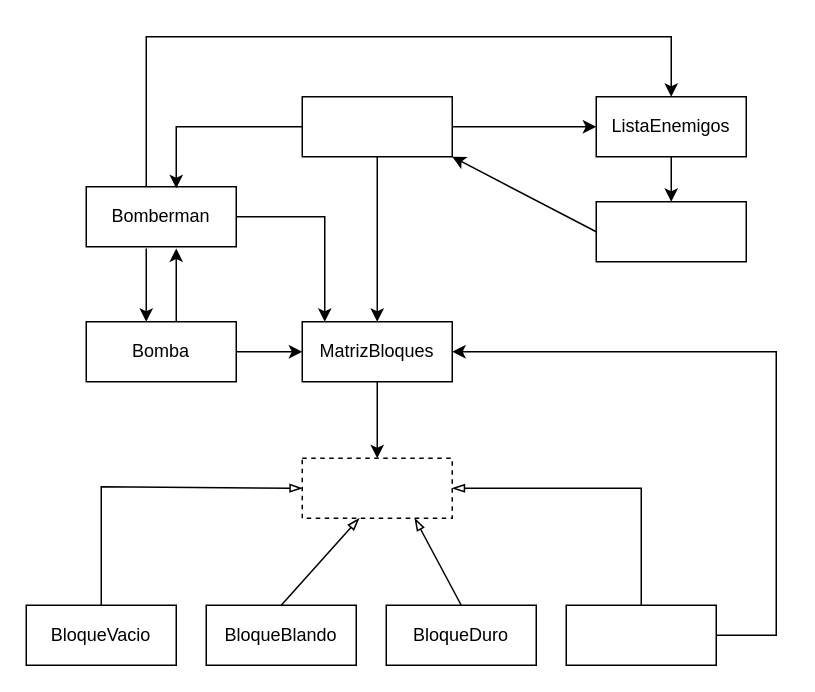
Some shapes in this 815 by 692 pixel diagram are drawn without their labels. Each missing label, with the box of its shape:
Bloque: (301, 457, 452, 518)
BloqueArdiendo: (565, 604, 716, 665)
Enemigo: (595, 200, 746, 262)
Facade: (301, 95, 452, 157)
